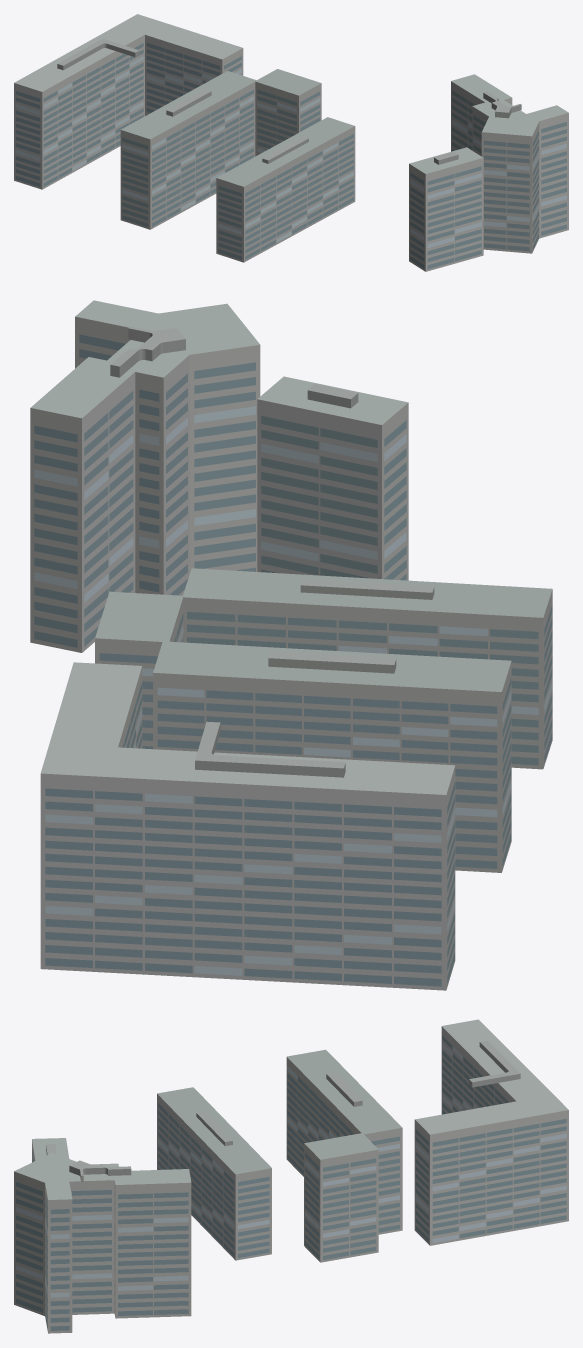
Rendered from apt-a15722106.glb.
The picture shows the model from 3 angles, top to bottom: view 1: azimuth 30°, elevation 25°; view 2: azimuth 150°, elevation 25°; view 3: azimuth 270°, elevation 25°; orthographic projection. The views are drawn at different scales.
Visible parts, largest first — view 1: apt-a15722106; view 2: apt-a15722106; view 3: apt-a15722106.
Boxes of the visible parts, x1,y1,x2,y2 form: apt-a15722106: (14, 14, 568, 271); apt-a15722106: (30, 300, 552, 990); apt-a15722106: (14, 1019, 568, 1333).
Bounding box in the file's own units: 149 × 48 × 173.
